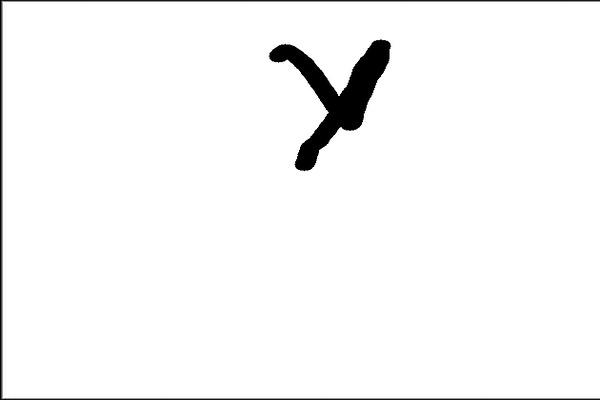Y: (263, 27, 401, 184)
